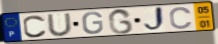C: (22, 14, 48, 39), (169, 6, 194, 30)
G: (107, 8, 135, 35), (81, 11, 105, 36)
J: (142, 5, 167, 33)
U: (46, 12, 75, 37)
